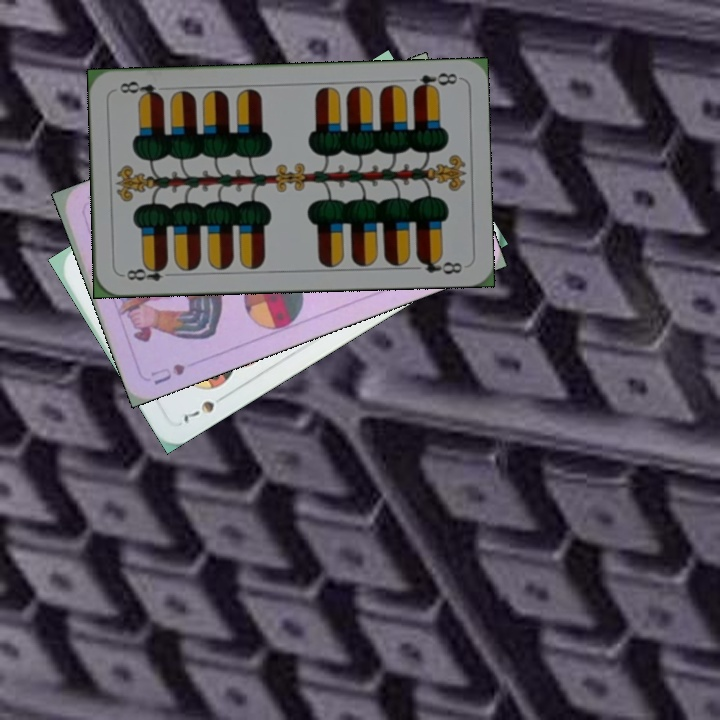E8: (118, 260, 177, 284), (409, 69, 460, 94)
S7: (179, 390, 230, 428)
SU: (146, 359, 188, 388)
